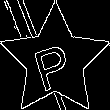P_N: (31, 31, 79, 91)
